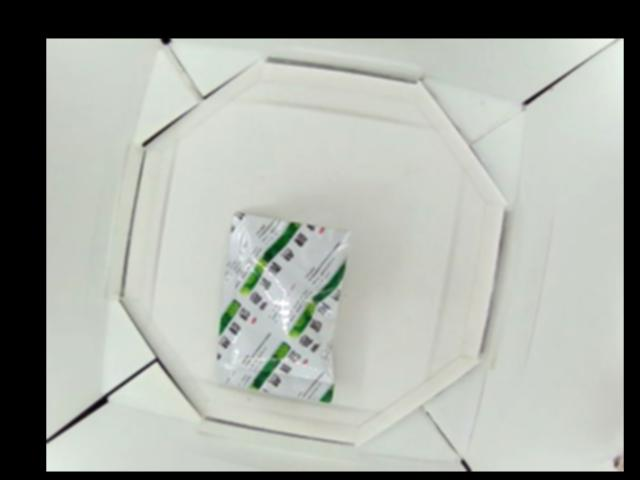Medicine: (211, 208, 350, 405)
